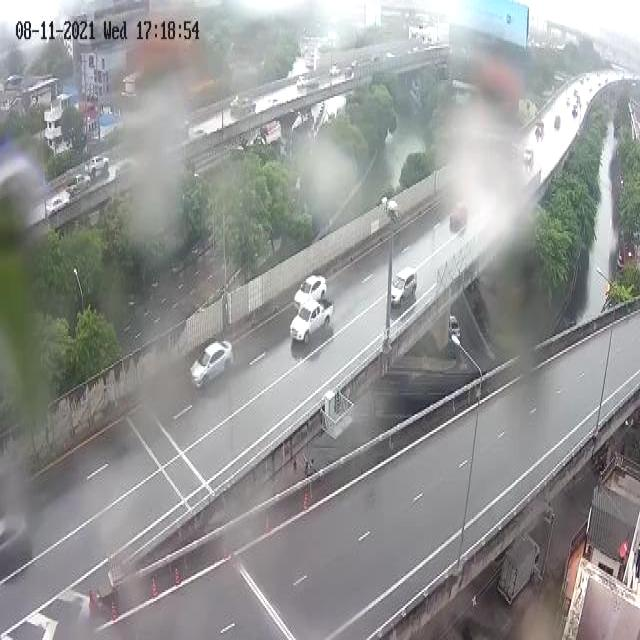Car: (0, 498, 36, 586), (179, 342, 243, 391), (224, 91, 262, 145), (384, 266, 420, 321), (288, 304, 330, 350), (287, 269, 333, 309), (441, 196, 475, 236), (447, 302, 465, 358), (519, 136, 542, 178)
